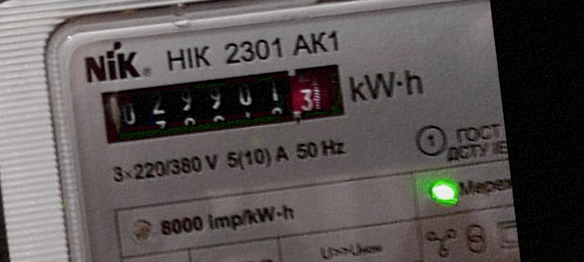0: (118, 98, 139, 127), (235, 79, 255, 109)
1: (266, 74, 282, 104)
2: (147, 89, 168, 118)
3: (297, 85, 317, 113)
9: (177, 86, 196, 114), (208, 83, 224, 112)
screen: (91, 53, 357, 155)
